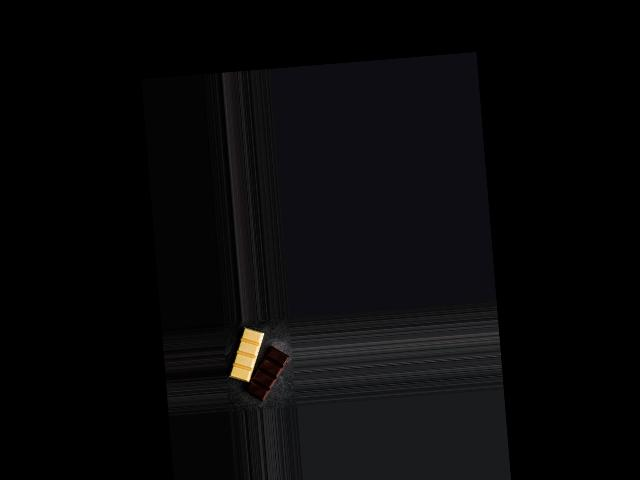chocolate: (225, 320, 291, 403)
